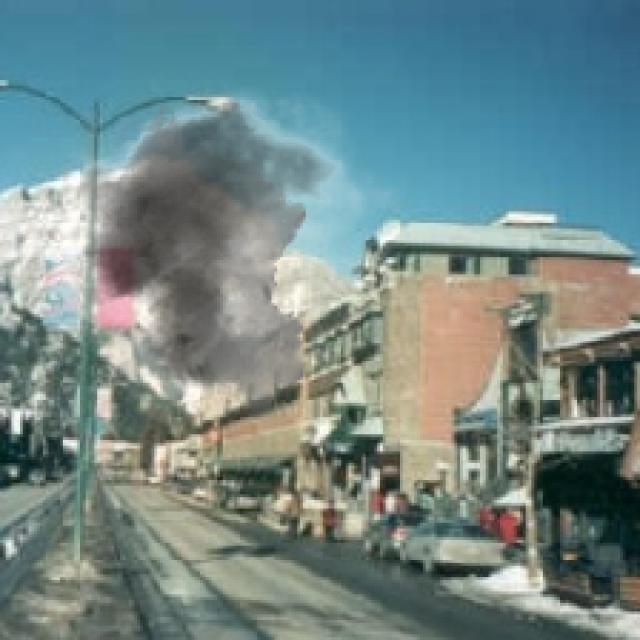smoke: (26, 74, 408, 420)
